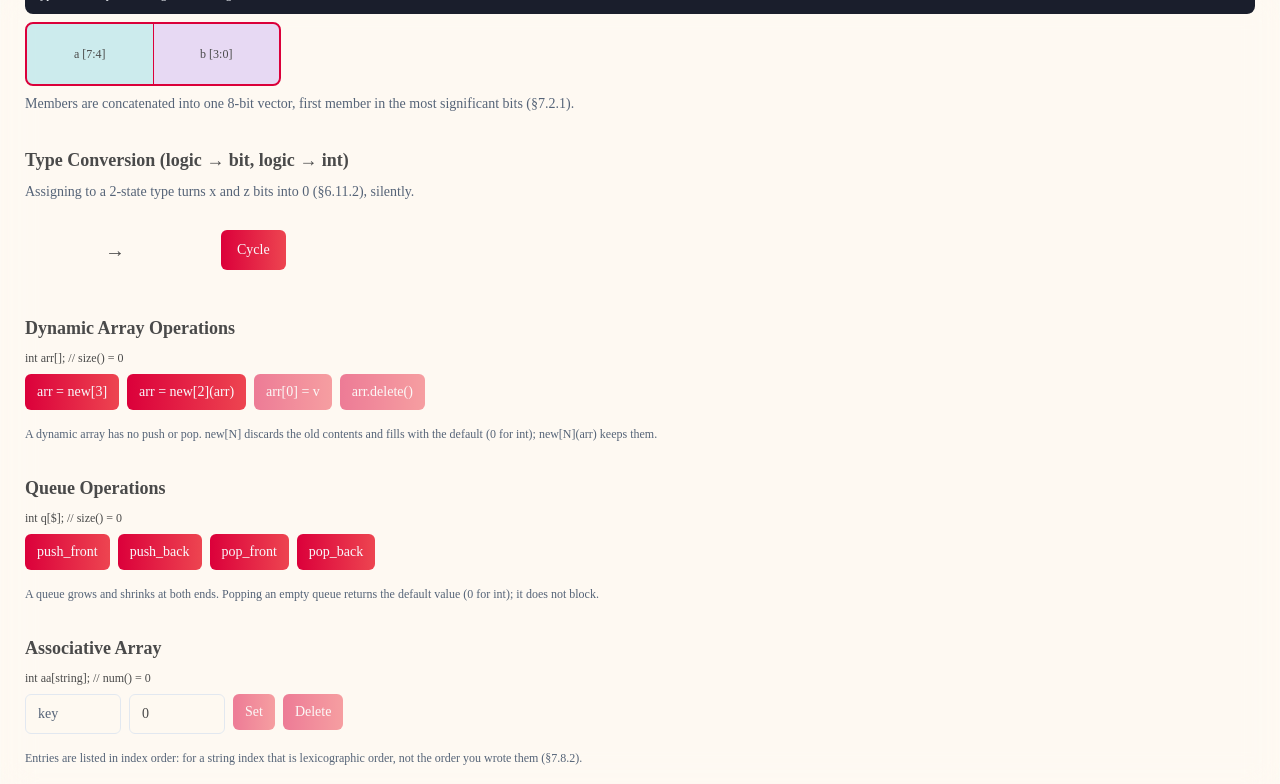
Scenario: SystemVerilogDataTypesAnimation: dynamic array section (§7.5) › §7.5.1: new[3] fills int elements with 0 and new[N](arr) keeps them
The width and height of the screenshot is (1280, 784).
(page scrolled)
Click the button "arr = new[3]": coordinates (72, 392) [25, 374, 119, 410]
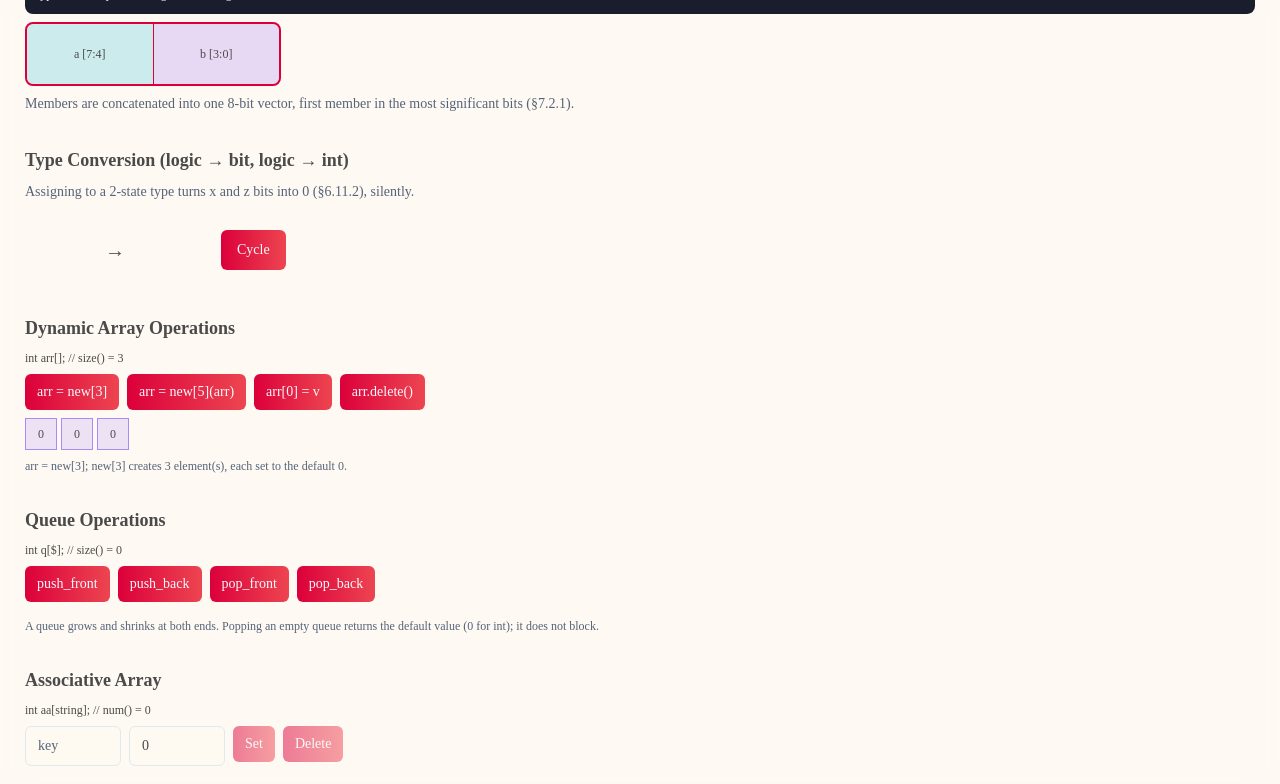
Expected: the number of elements labelled "0" is 3, [25, 418, 57, 450]; [61, 418, 93, 450]; [97, 418, 129, 450]
Click the button "arr[0] = v": coordinates (293, 392) [254, 374, 332, 410]
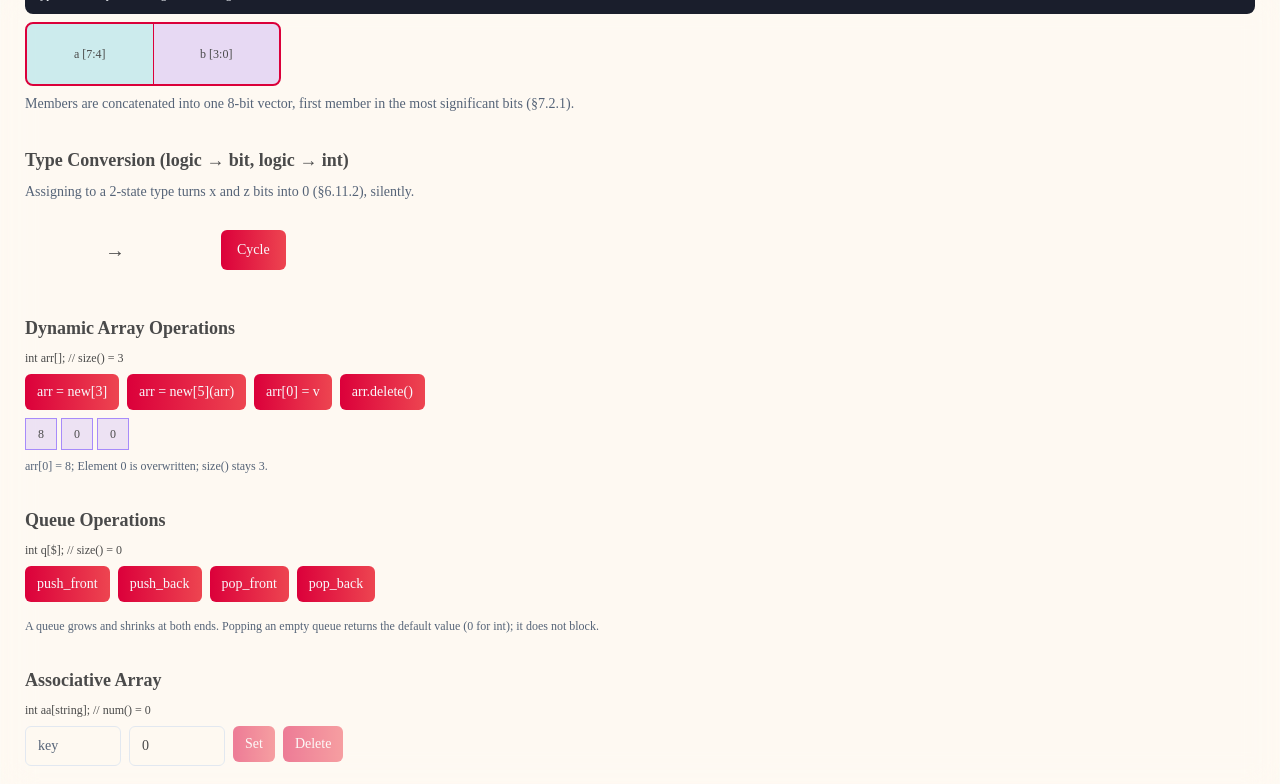
Click the button "arr = new[5](arr)": coordinates (187, 392) [127, 374, 246, 410]
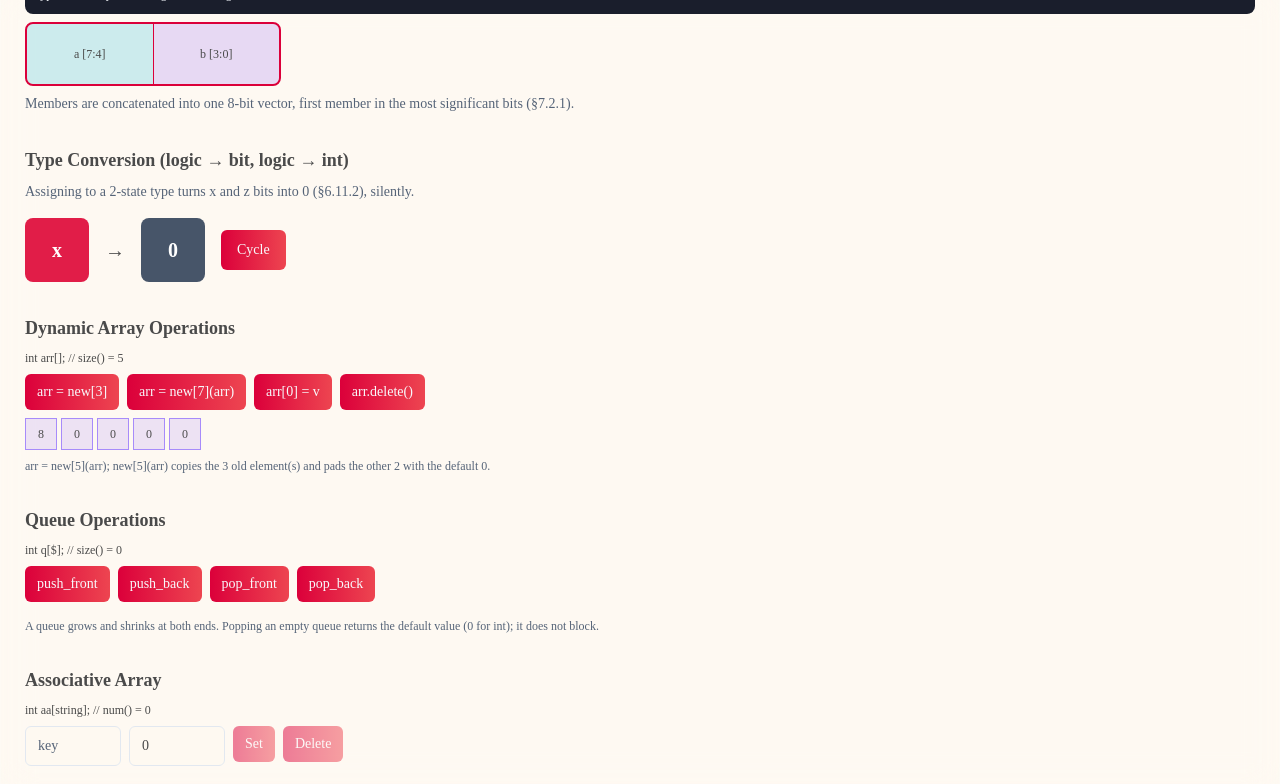
Expected: the number of elements labelled "8" is 5, [25, 418, 57, 450]; [61, 418, 93, 450]; [97, 418, 129, 450]; [133, 418, 165, 450]; [169, 418, 201, 450]
Expected: the text "pads the other 2 with the default 0" is shown, [113, 459, 490, 473]
